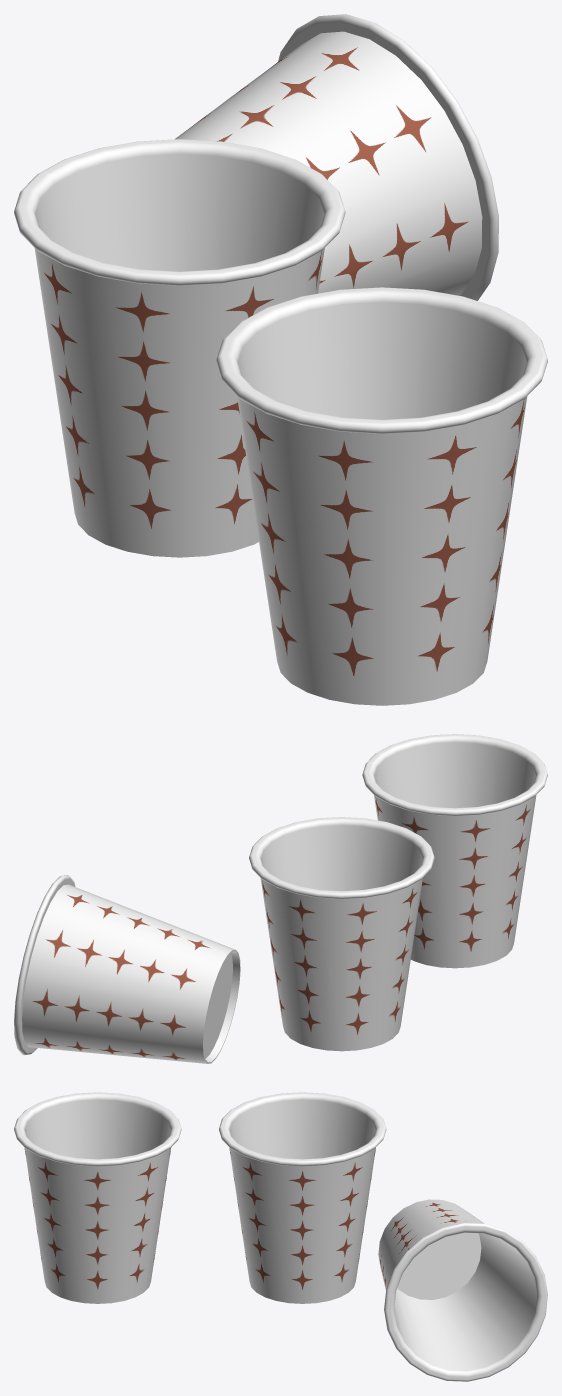
The model's file is cup.fbx.
3 views of the same model, one above another, from view 1: azimuth 30°, elevation 25°; view 2: azimuth 150°, elevation 25°; view 3: azimuth 270°, elevation 25° (orthographic). The views are drawn at different scales.
Parts seen in each view (by area): view 1: Lathe_0, Lathe_2, Lathe; view 2: Lathe_2, Lathe, Lathe_0; view 3: Lathe_0, Lathe_2, Lathe.
Part boxes in pixels (x1,y1,x2,y2): Lathe_0: (216, 287, 547, 705); Lathe_2: (14, 139, 345, 557); Lathe: (175, 14, 498, 300); Lathe_2: (249, 817, 434, 1051); Lathe: (14, 875, 240, 1063); Lathe_0: (362, 734, 547, 968); Lathe_0: (14, 1092, 181, 1303); Lathe_2: (219, 1092, 386, 1303); Lathe: (378, 1199, 547, 1381).
Size of what is drawn, in the model's own units: 19.44 by 10.74 by 32.39.
4 materials, 3 textured.
